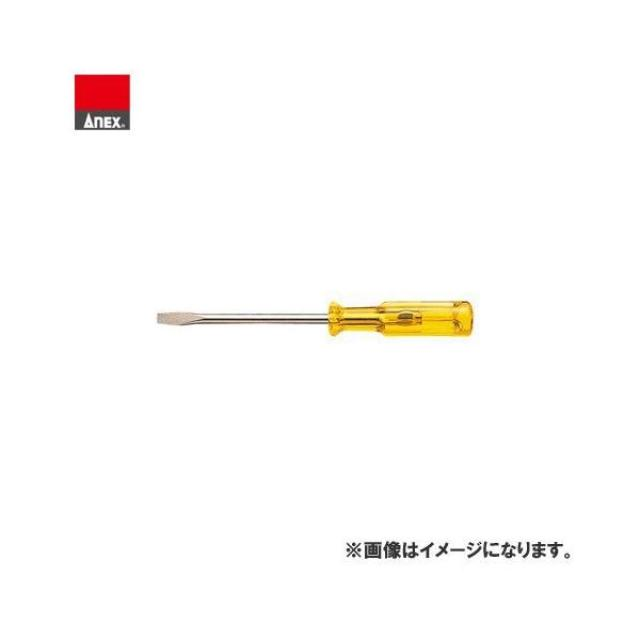Screwdriver: (158, 301, 472, 336)
